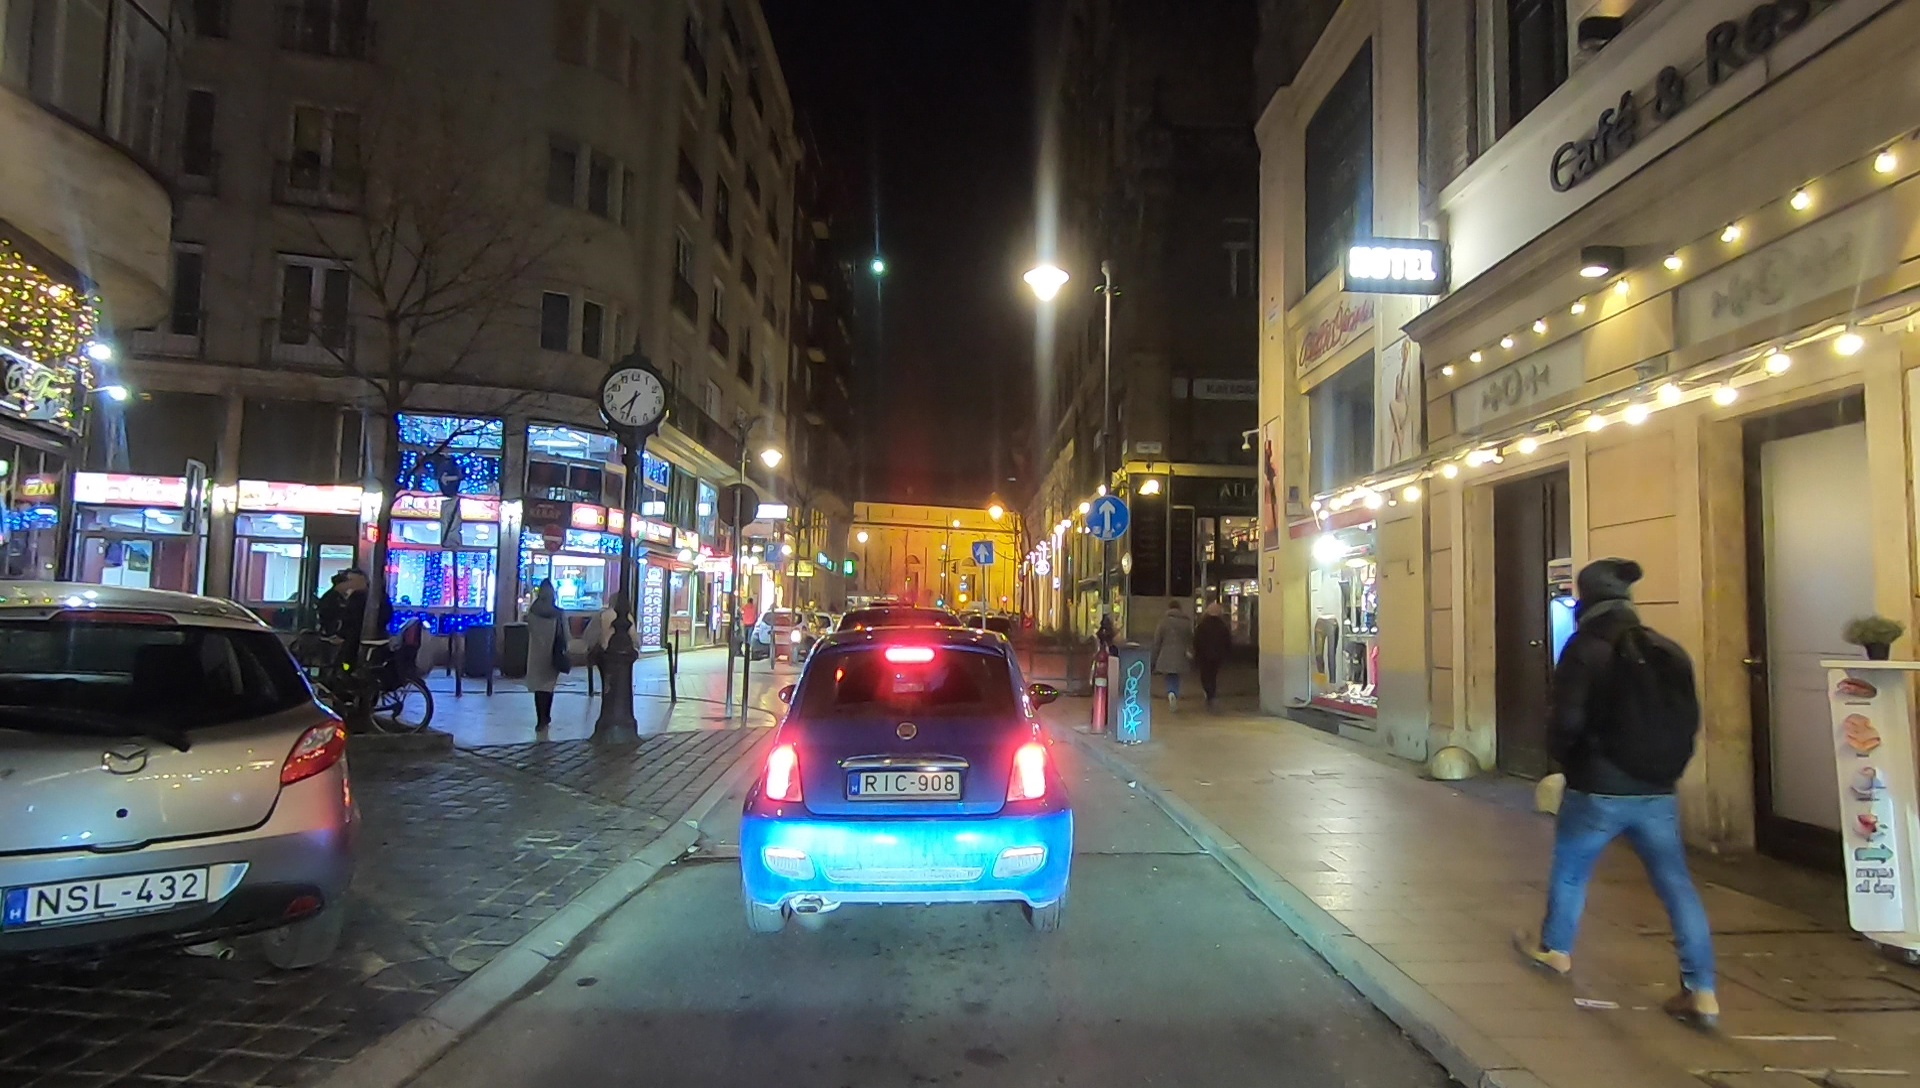person: (1528, 549, 1736, 1023), (521, 578, 575, 734), (584, 586, 639, 730), (341, 574, 395, 715), (317, 563, 360, 715), (1152, 599, 1188, 711), (1193, 589, 1226, 708), (743, 597, 758, 658)
